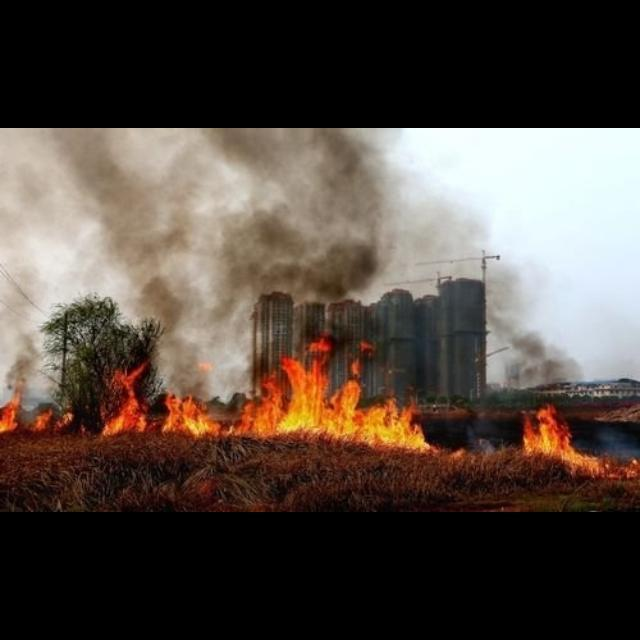Fire: (99, 337, 439, 453), (518, 404, 640, 478), (31, 410, 73, 430), (2, 383, 18, 432)
Smoke: (1, 129, 591, 343), (498, 352, 584, 414), (574, 426, 640, 460), (0, 350, 42, 388)
